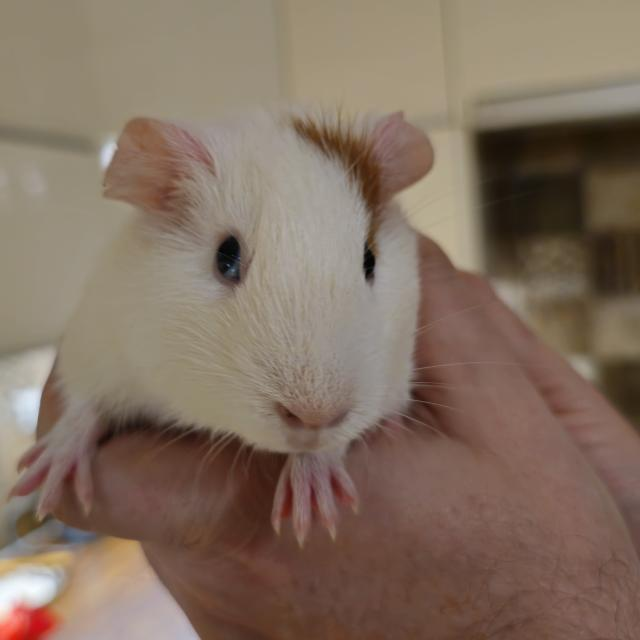guinea pig: (58, 106, 443, 457)
